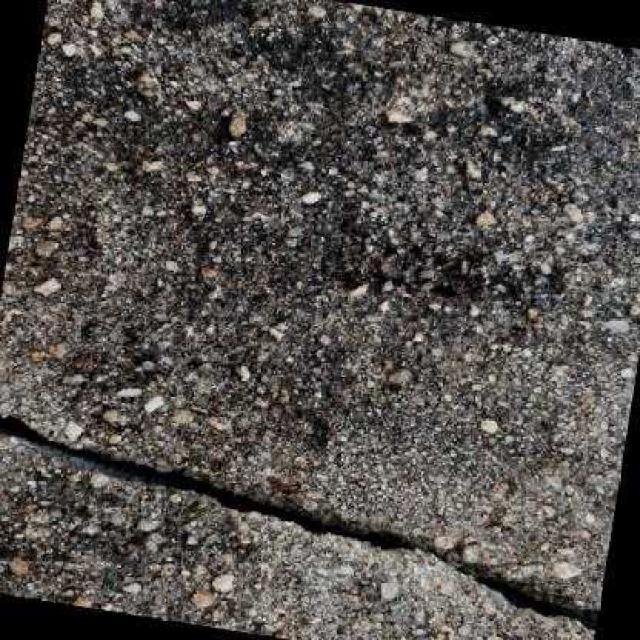D00: (0, 415, 598, 630)
